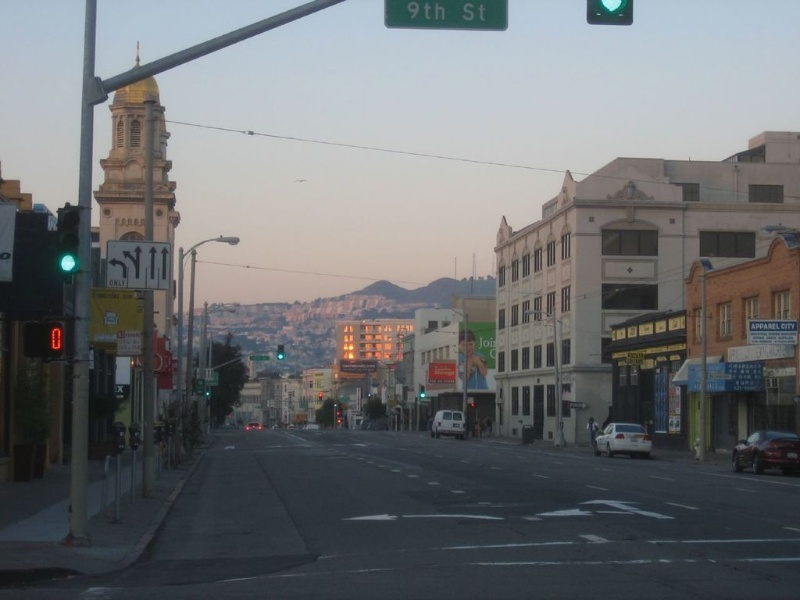green_light: (584, 1, 637, 28), (56, 249, 86, 278)
